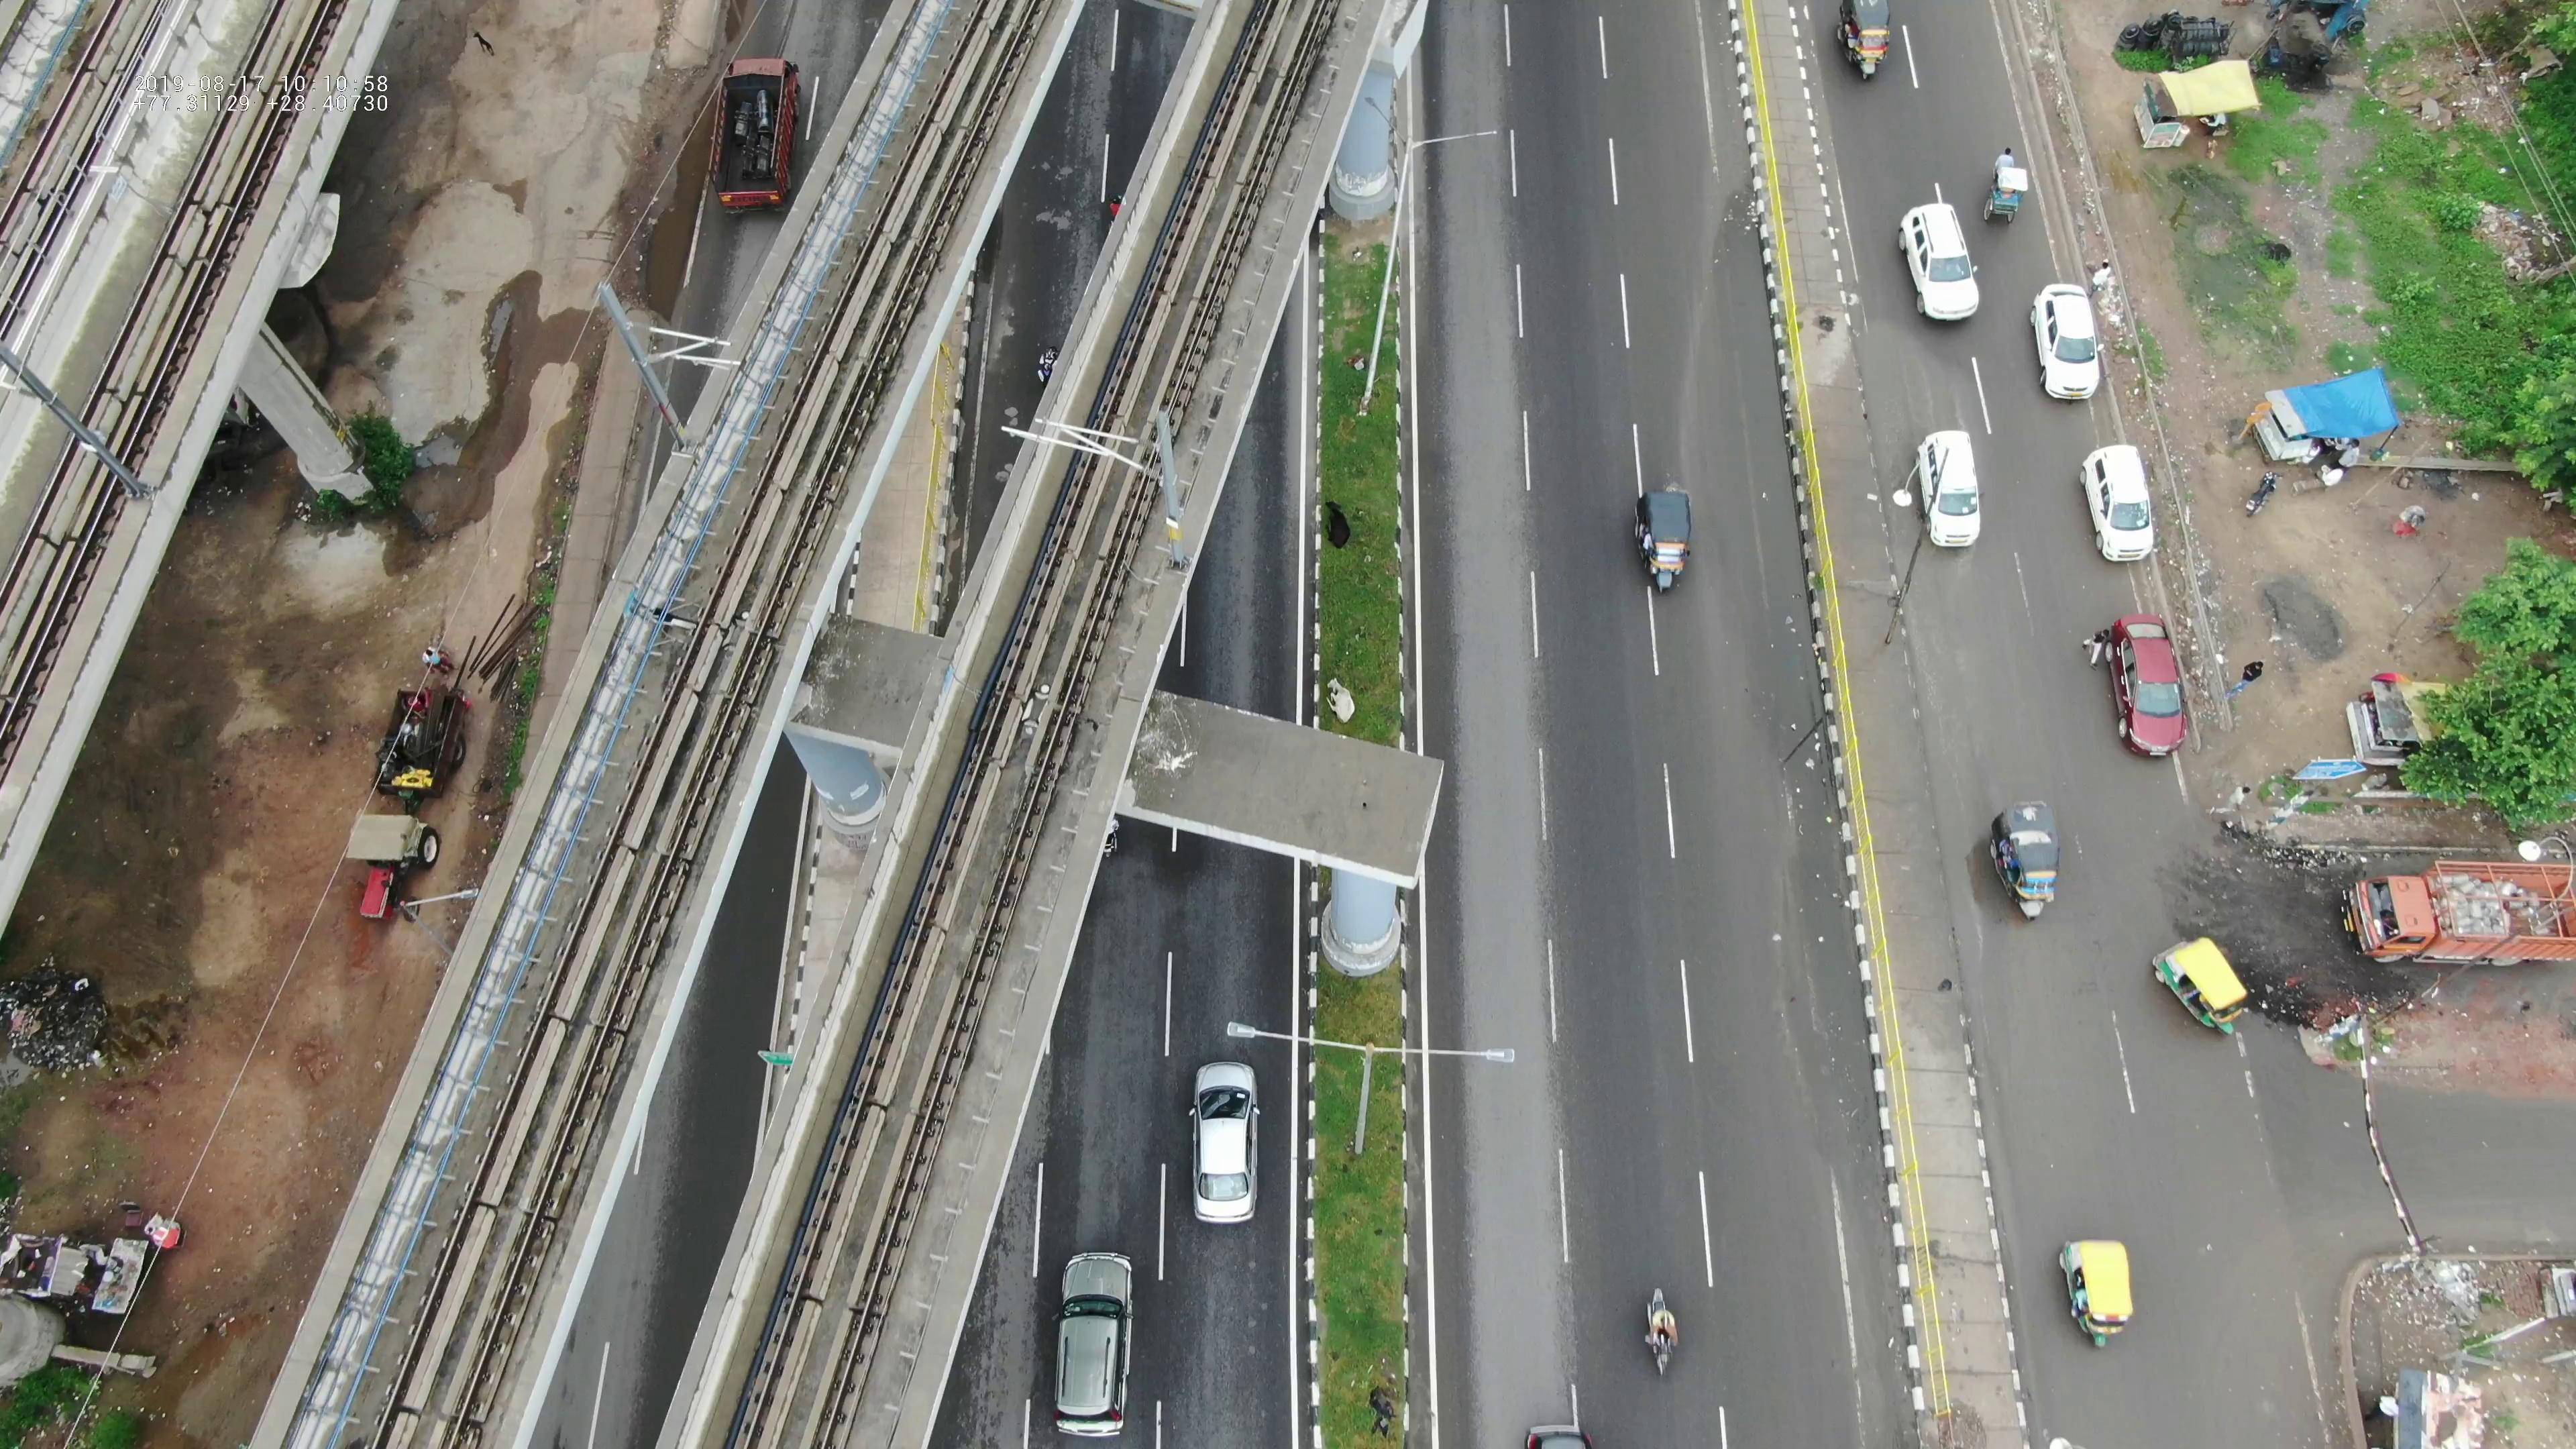Waterlogging: (1700, 179, 1805, 648), (1757, 819, 1884, 1171)
